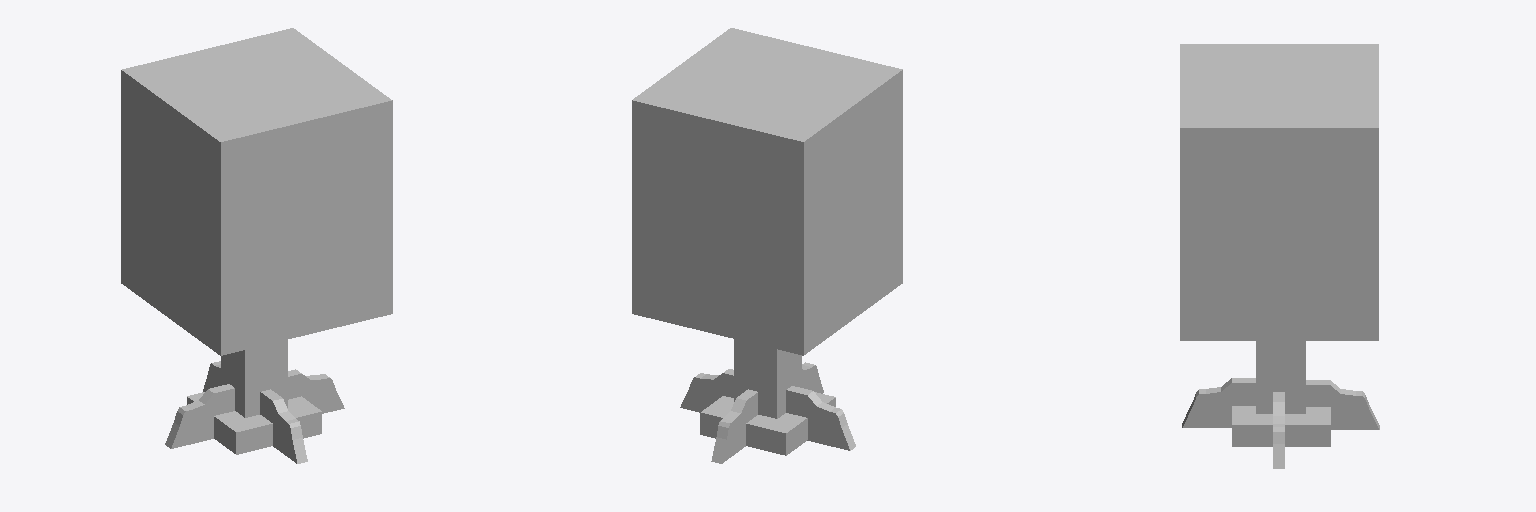
The model's file is cubetree.obj.
The picture shows the model from 3 angles: view 1: azimuth 30°, elevation 25°; view 2: azimuth 150°, elevation 25°; view 3: azimuth 270°, elevation 25°; orthographic projection.
Visible parts, largest first — view 1: pCube8; view 2: pCube8; view 3: pCube8.
Part boxes in pixels (bbox=[...]): pCube8: bbox=[121, 28, 392, 463]; pCube8: bbox=[632, 28, 902, 463]; pCube8: bbox=[1180, 44, 1379, 468].
Bounding box in the file's own units: 8.07 × 15.19 × 8.02.